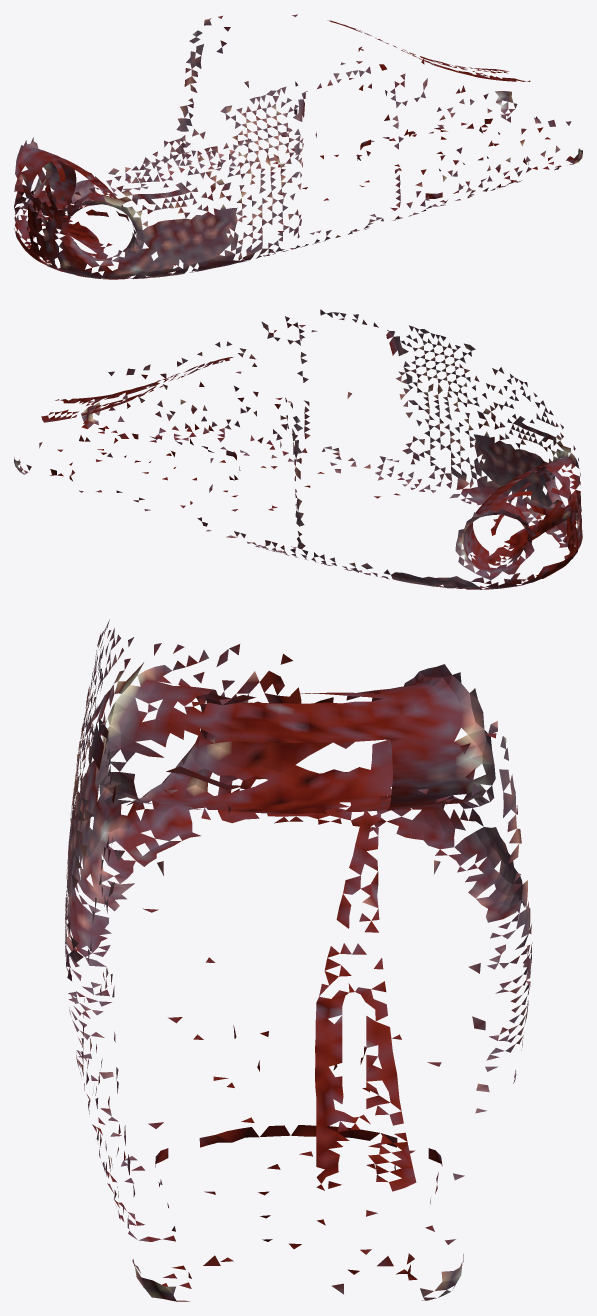
Rendered from whistle_final300.obj.
3 renders of one model, top to bottom at view 1: azimuth 30°, elevation 25°; view 2: azimuth 150°, elevation 25°; view 3: azimuth 270°, elevation 25°, orthographic. The views are drawn at different scales.
Size of the model in its own units: 1.92 by 0.5745 by 0.7491.
